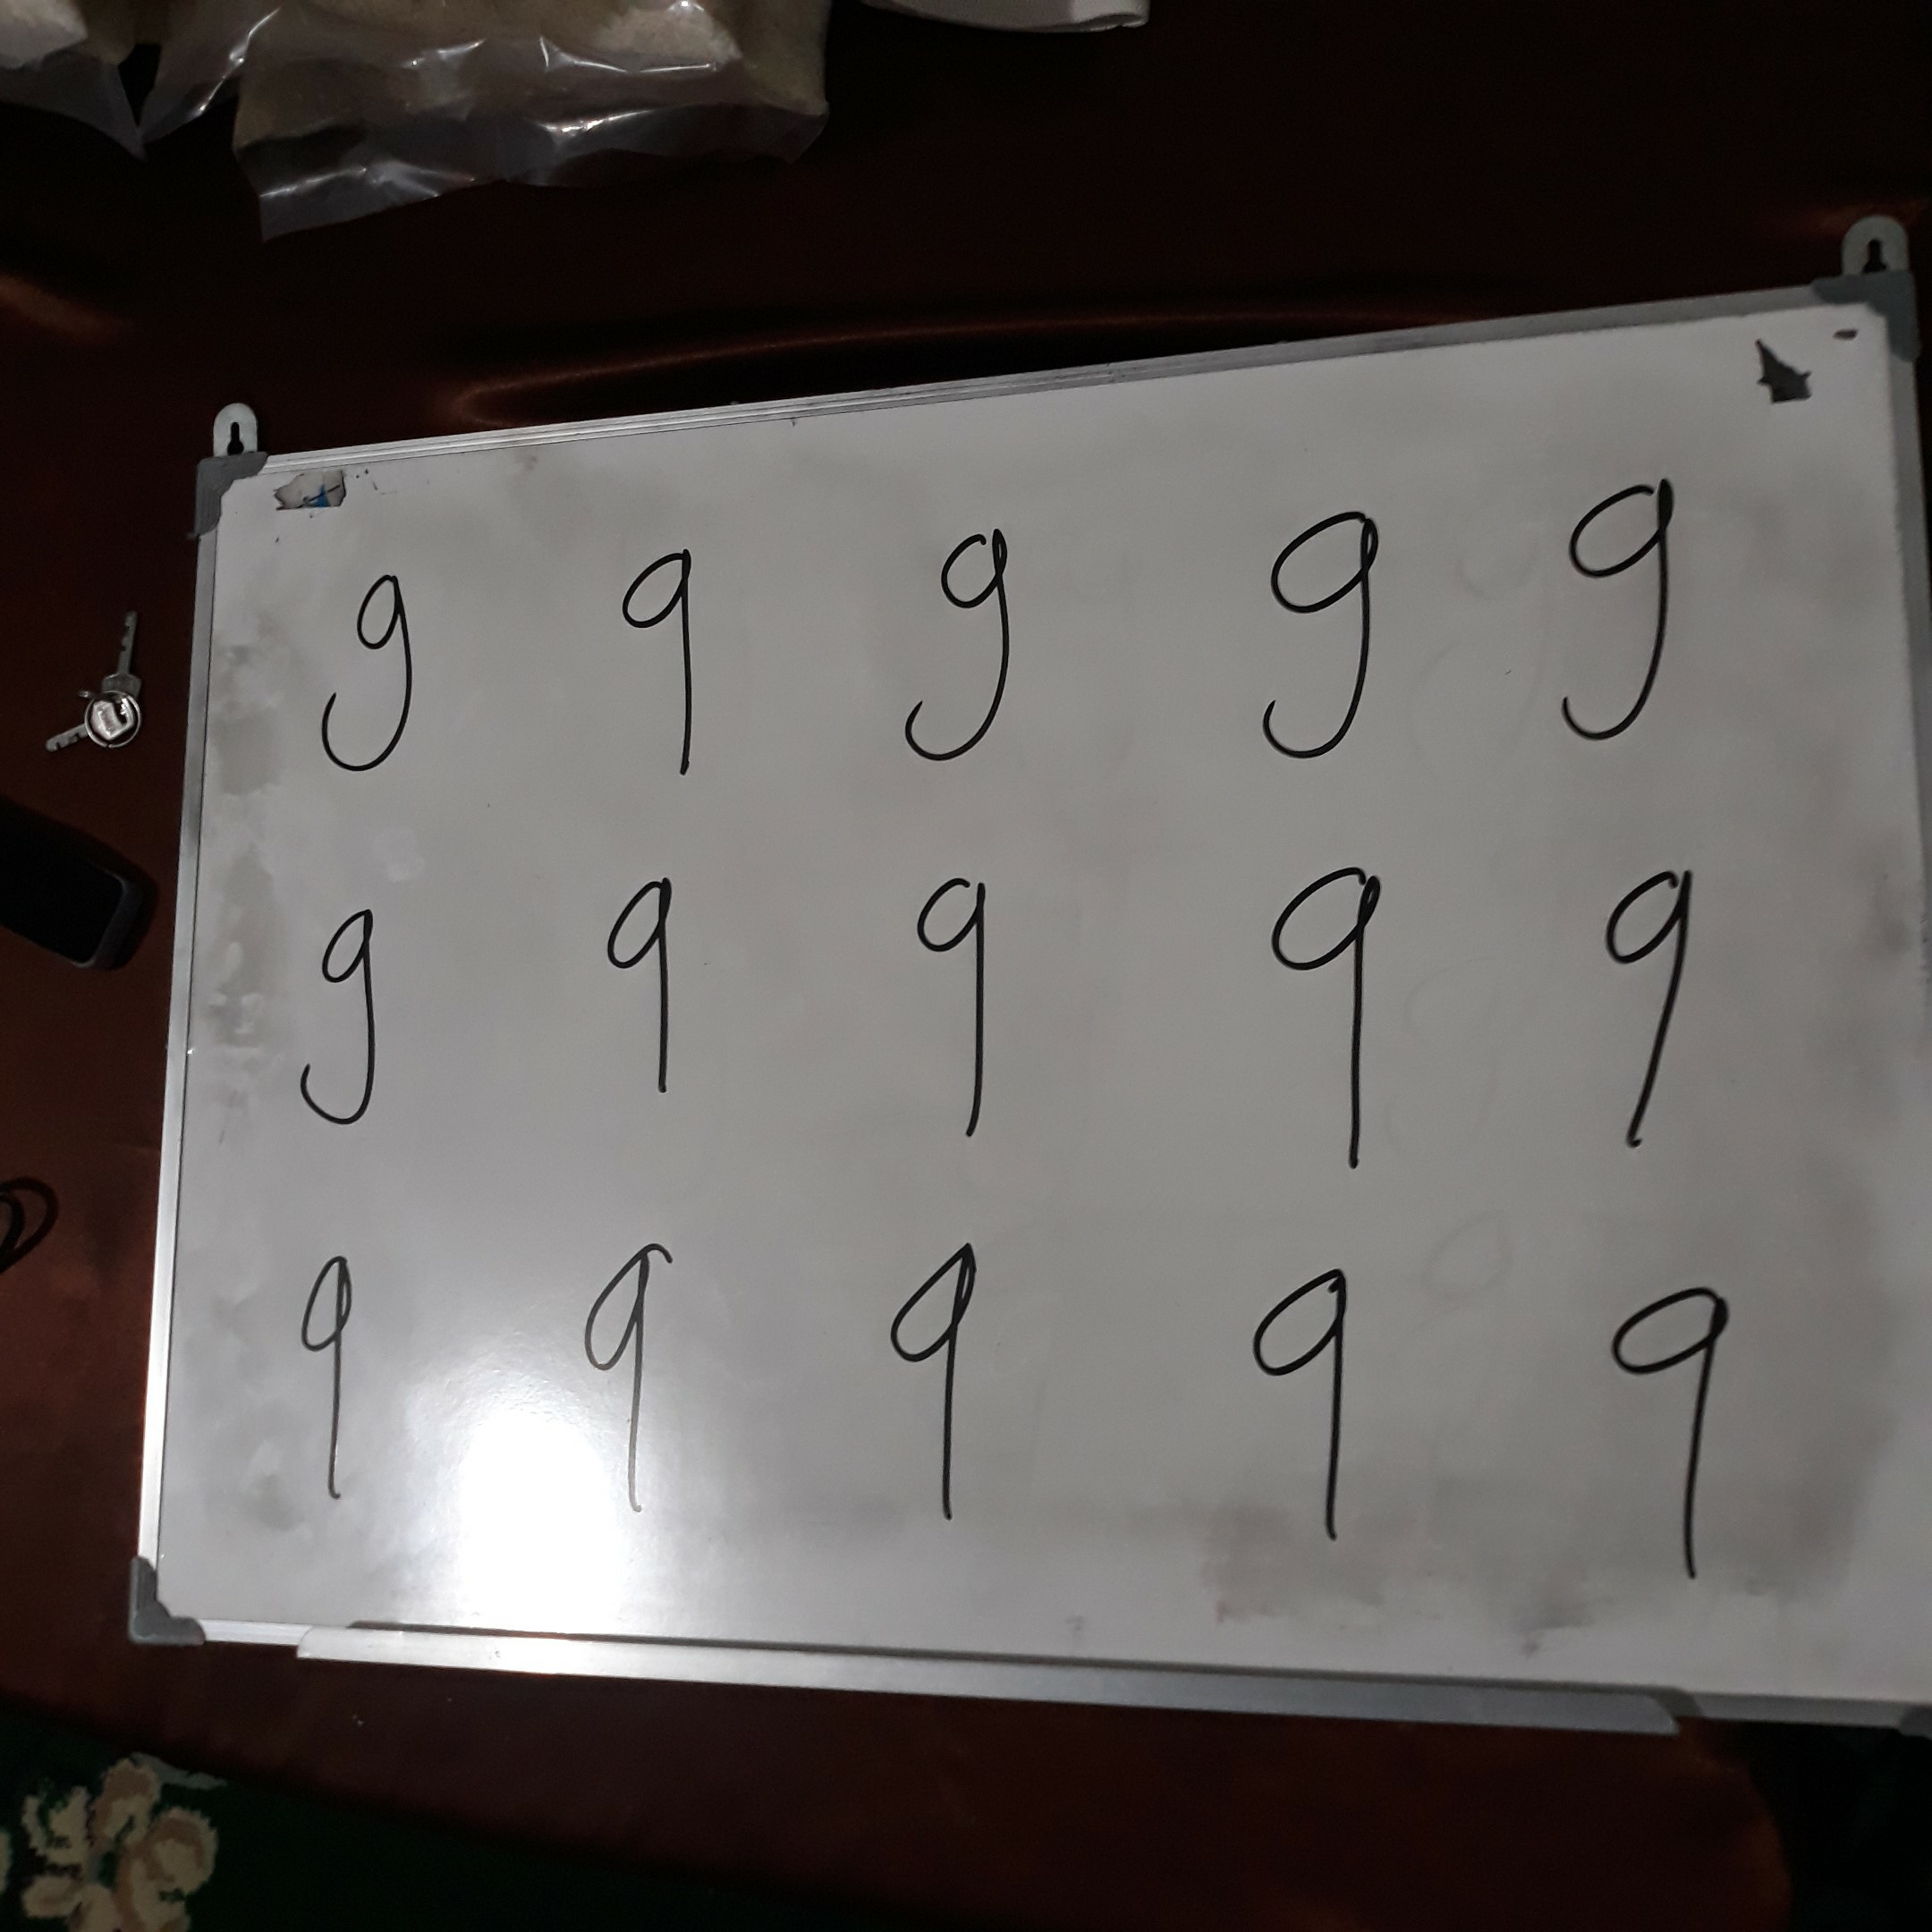num9: (1602, 1266, 1749, 1589), (1262, 853, 1396, 1179), (1541, 461, 1687, 759), (1242, 1243, 1379, 1549), (1577, 844, 1707, 1158), (1241, 504, 1388, 770), (876, 1219, 996, 1537), (572, 1238, 690, 1538), (890, 527, 1033, 767), (295, 560, 442, 791), (899, 865, 1011, 1152), (274, 901, 407, 1138), (276, 1240, 380, 1514), (608, 541, 724, 780), (589, 863, 695, 1112)
